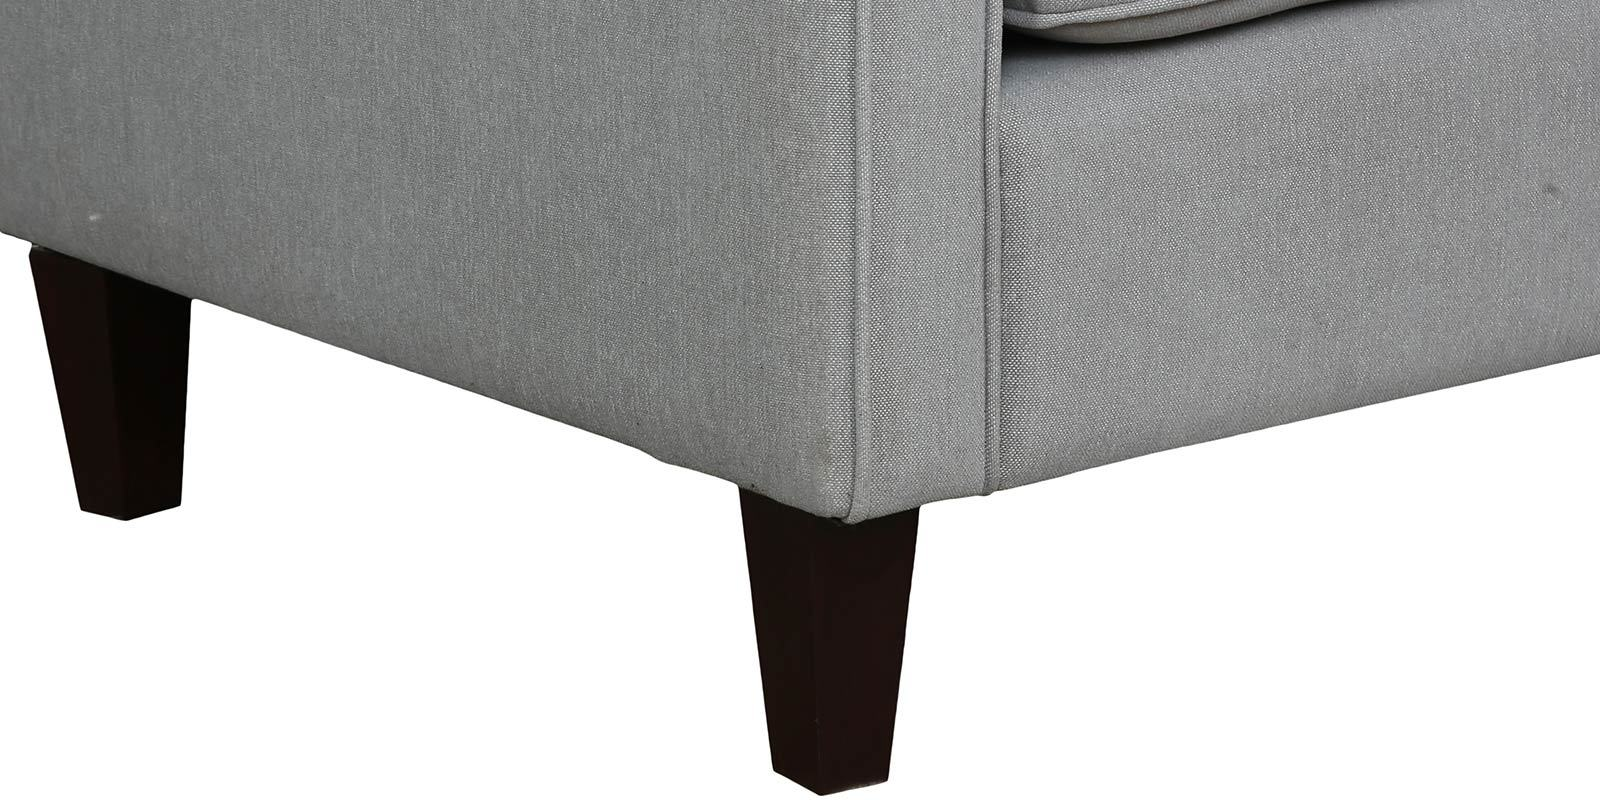Oscar Three Seater Sofa in Ash Grey Colour by CasaCraft: (1, 1, 1600, 795)
